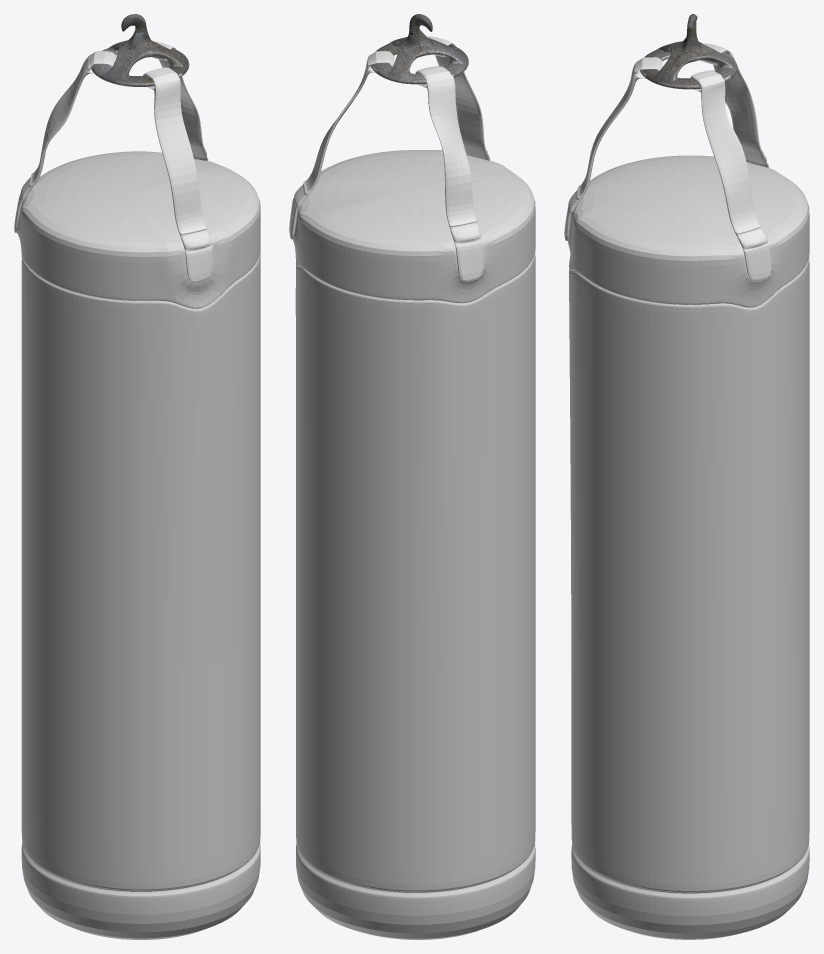
Rendered from punchBag.fbx.
3 views of the same model, side by side, from view 1: azimuth 30°, elevation 25°; view 2: azimuth 150°, elevation 25°; view 3: azimuth 270°, elevation 25° (orthographic).
Visible parts, largest first — view 1: Cylinder; view 2: Cylinder; view 3: Cylinder.
Part boxes in pixels (x1,y1,x2,y2): Cylinder: (14,14,260,939); Cylinder: (289,14,535,939); Cylinder: (564,14,809,939).
Bounding box in the file's own units: 99.36 × 410 × 102.
